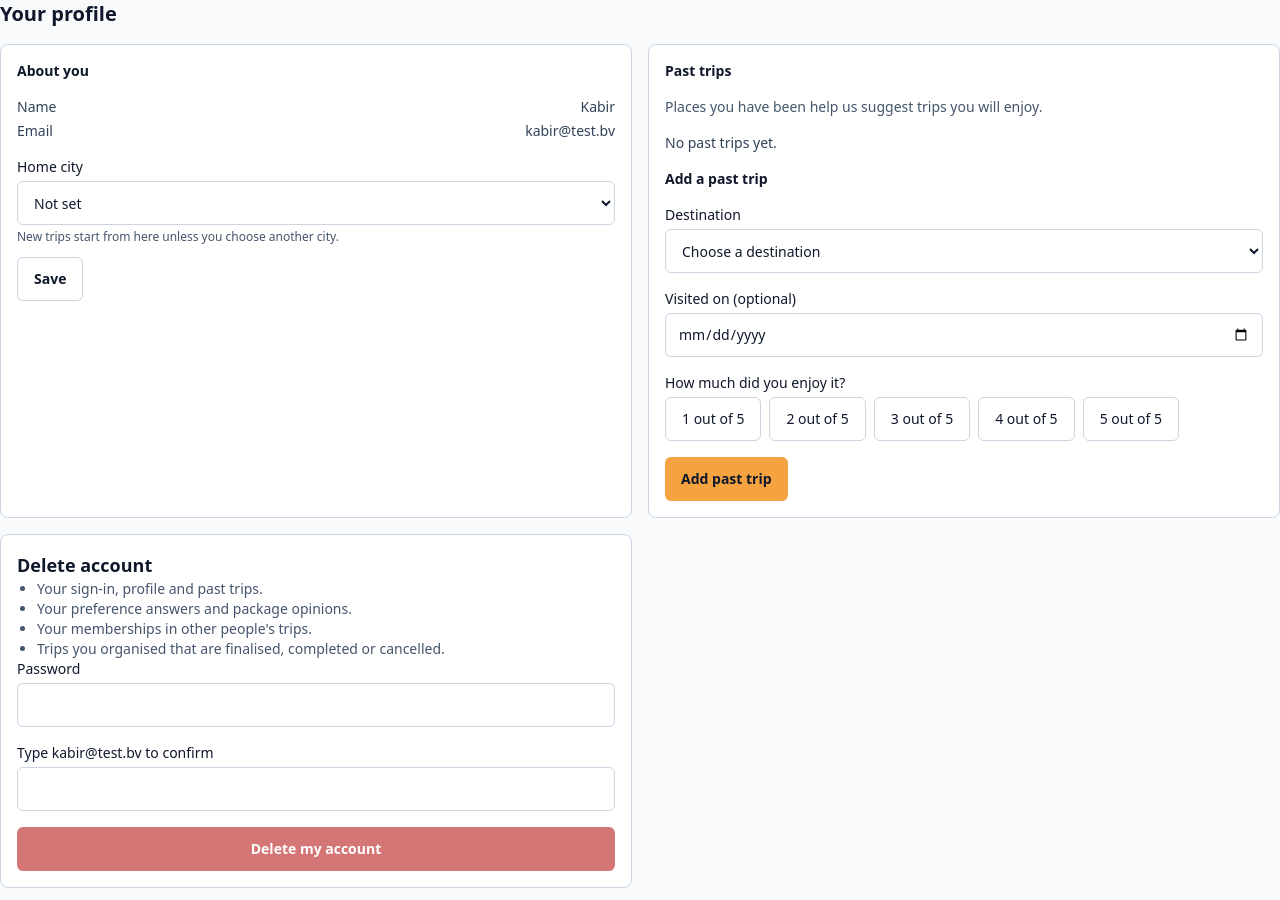
ProfilePage › asks for a destination when nothing is chosen
expect the dropdown labelled "Destination" is shown: met, box [665,229,1263,273]
Click the radio button labelled "3 out of 5": (922, 419) [874,397,970,441]
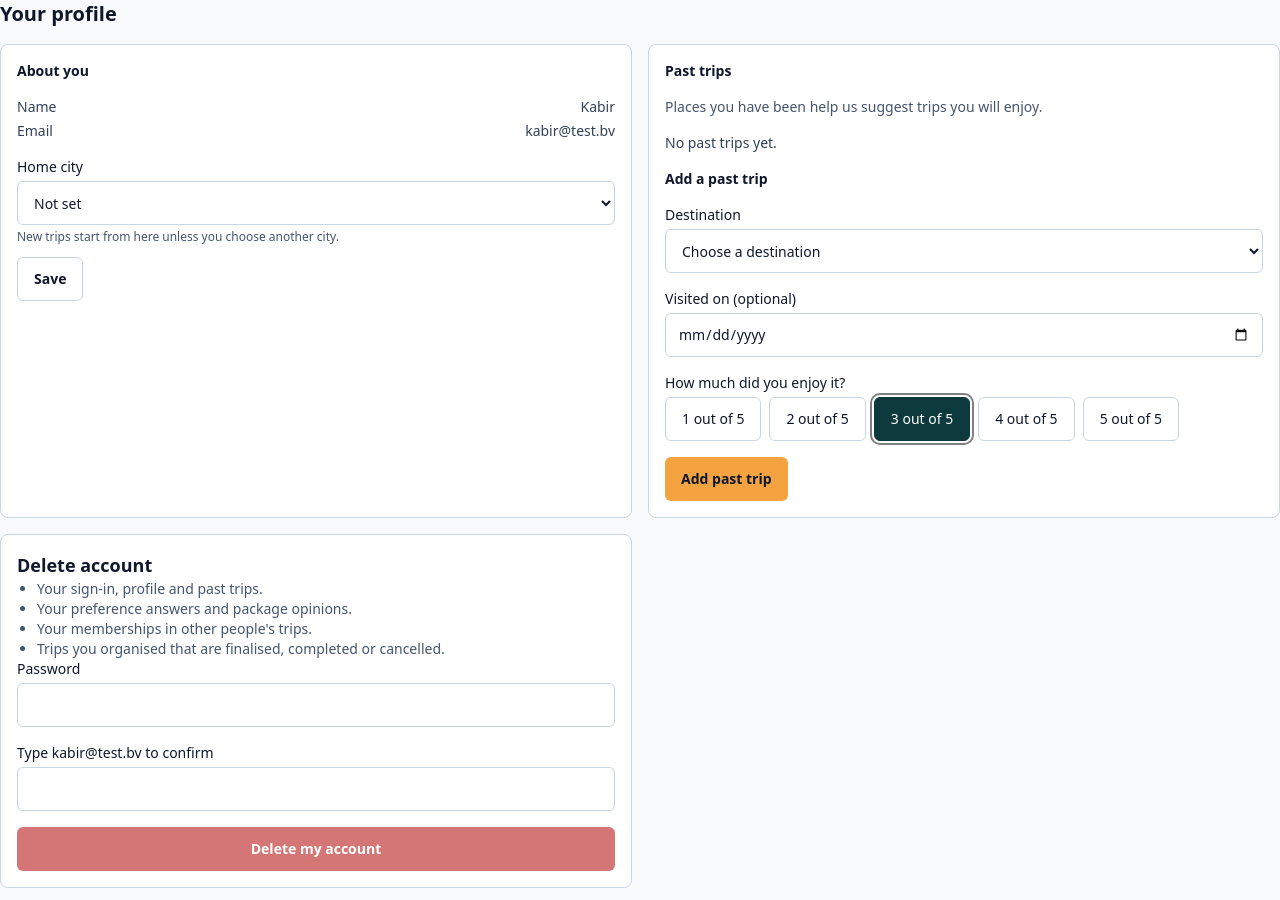
Click the button "Add past trip": (726, 479) [665,457,788,501]
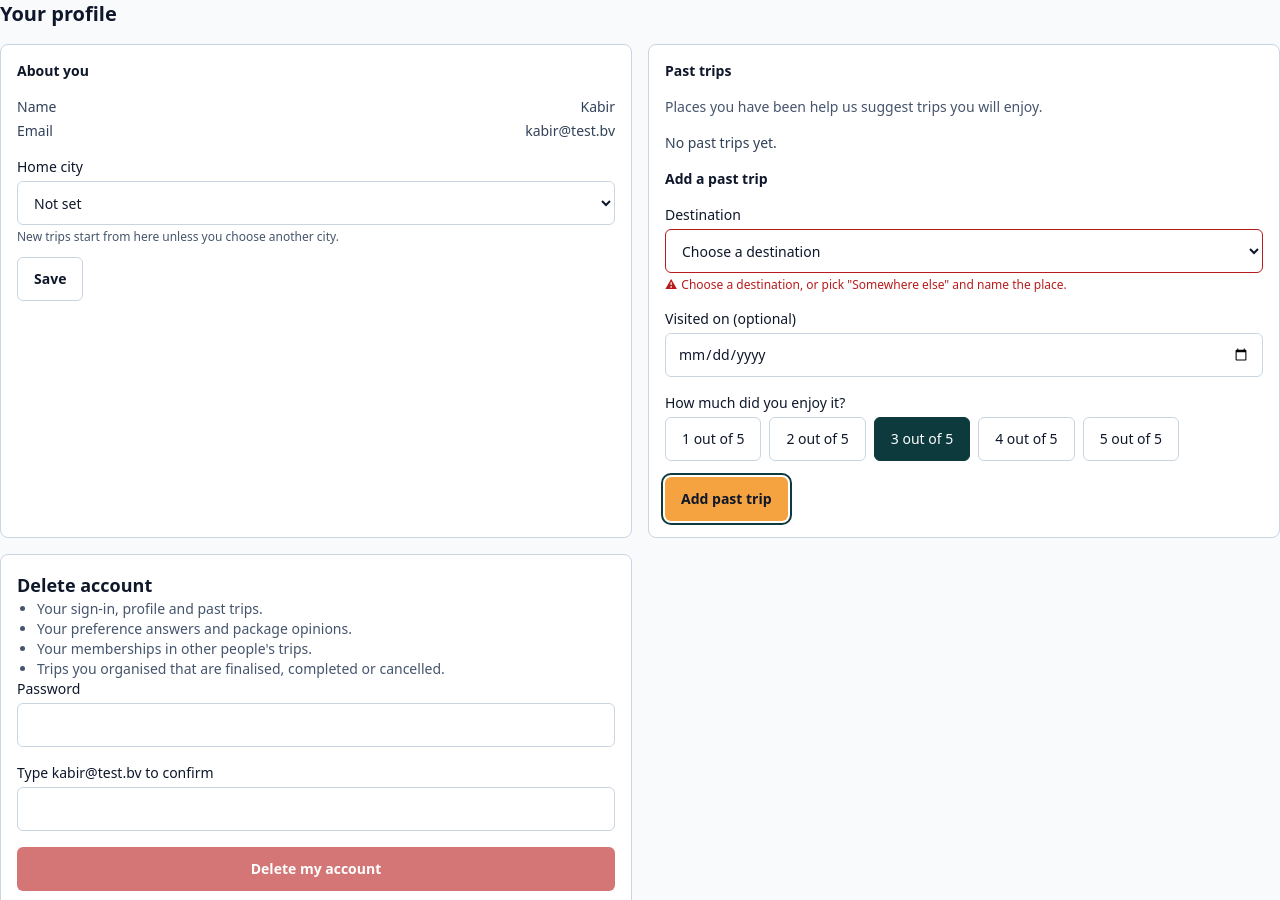
expect the text "Choose a destination, or pick \"Somewhere else\" and name the place." is shown: met, box [681,276,1067,293]
